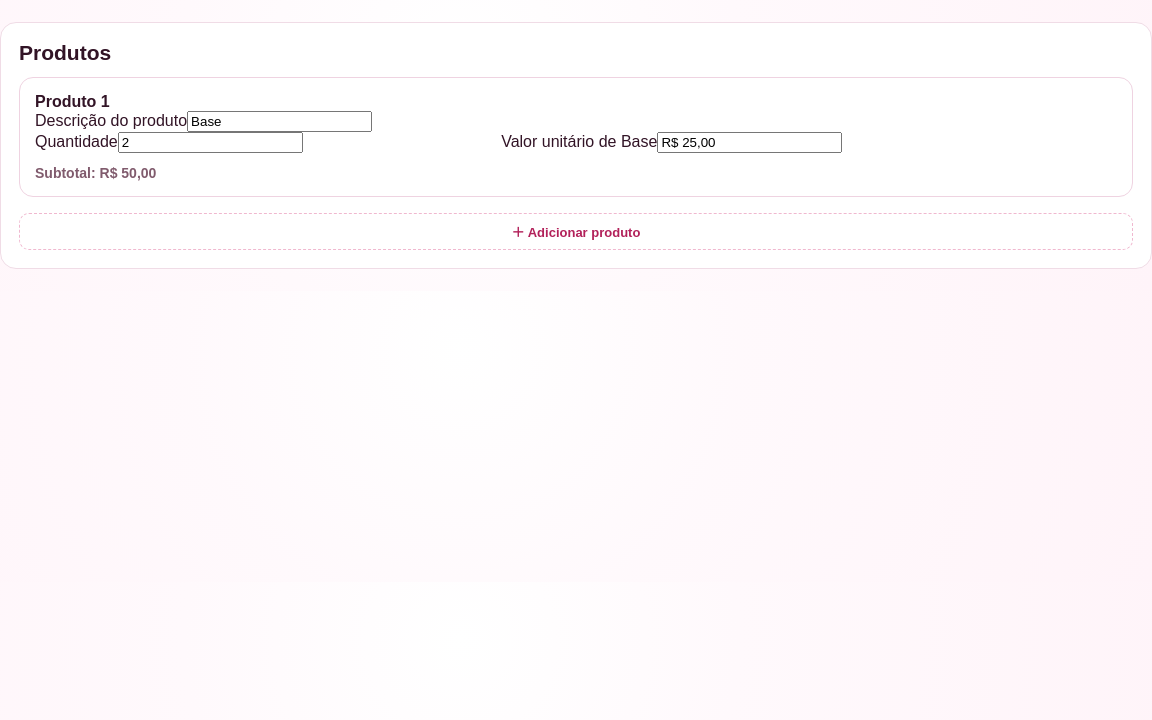
Test: QuoteItemsEditor › adiciona e remove produtos, mostrando o subtotal em reais
The image size is (1152, 720).
Expected: the text "Subtotal: R$ 50,00" is shown, [35,165,156,181]
Step 1. Replace the text in the field labelled "Valor unitário de Base" with "30" → (750, 142), box [657,132,842,153]
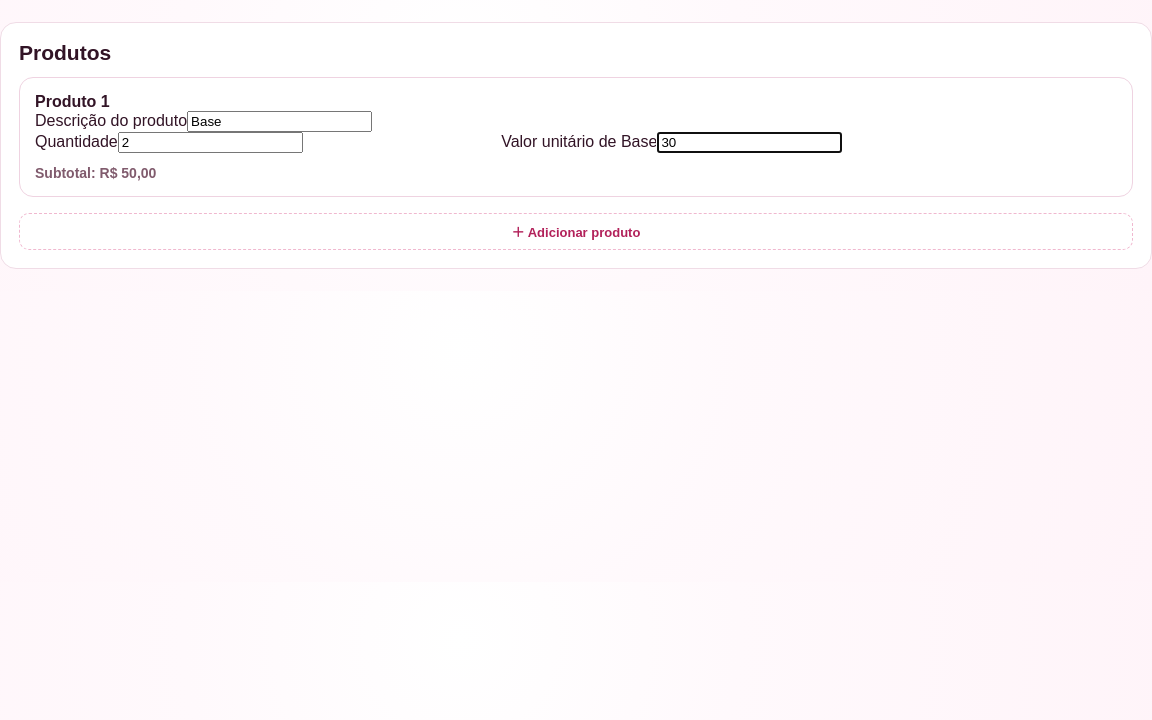
Step 2. Press Tab
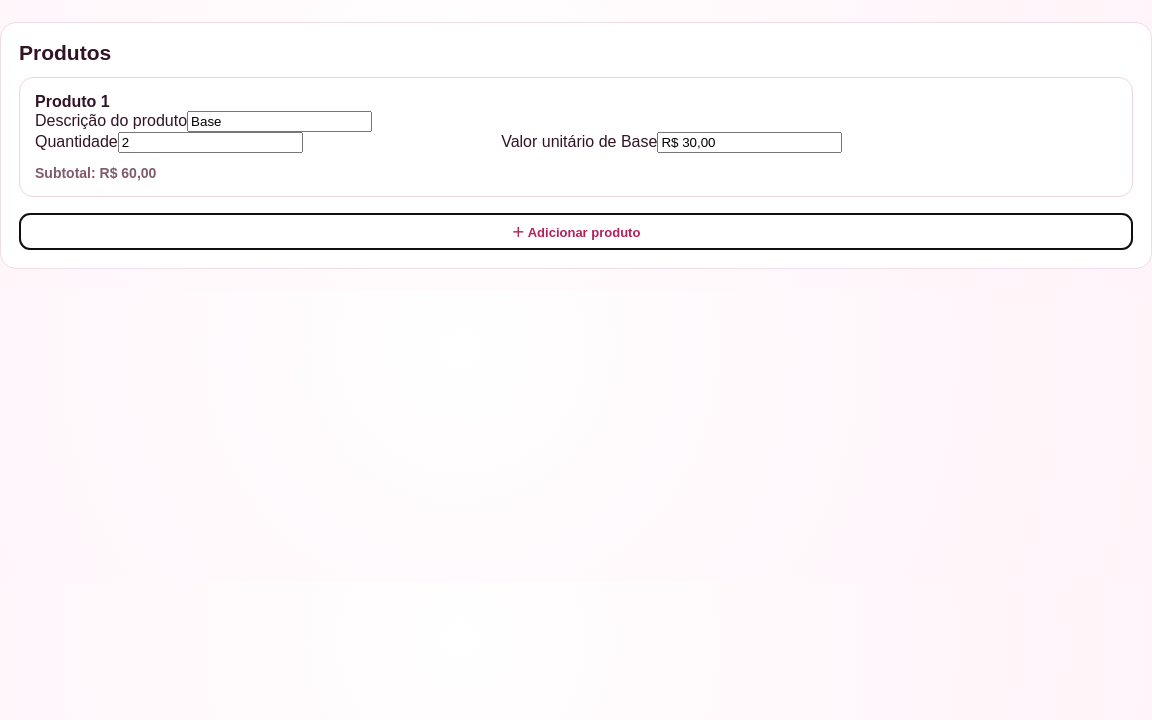
Expected: the text "Subtotal: R$ 60,00" is shown, [35,165,156,181]
Step 3. Click the button "＋ Adicionar produto" → click(576, 232), box [19,213,1133,250]
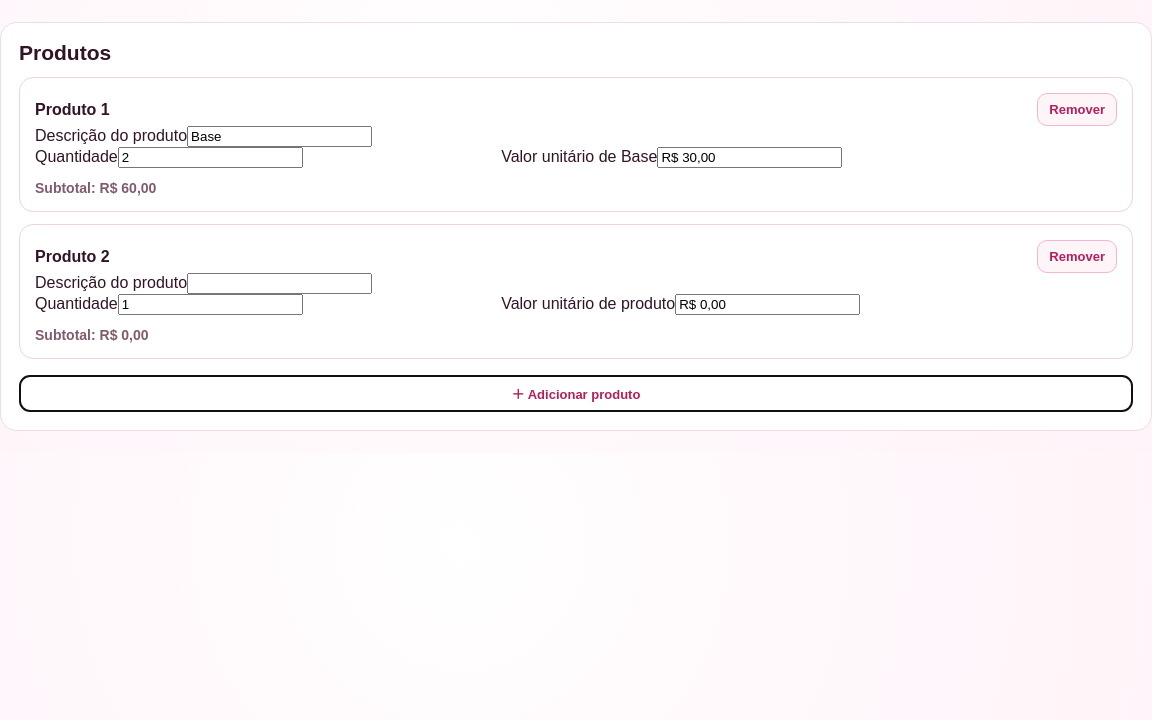
Expected: the number of fields labelled "Descrição do produto" is 2, [187,126,372,147]; [187,273,372,294]
Step 4. Click the button with aria-label "Remover produto Base" → click(1077, 110), box [1037,93,1117,126]
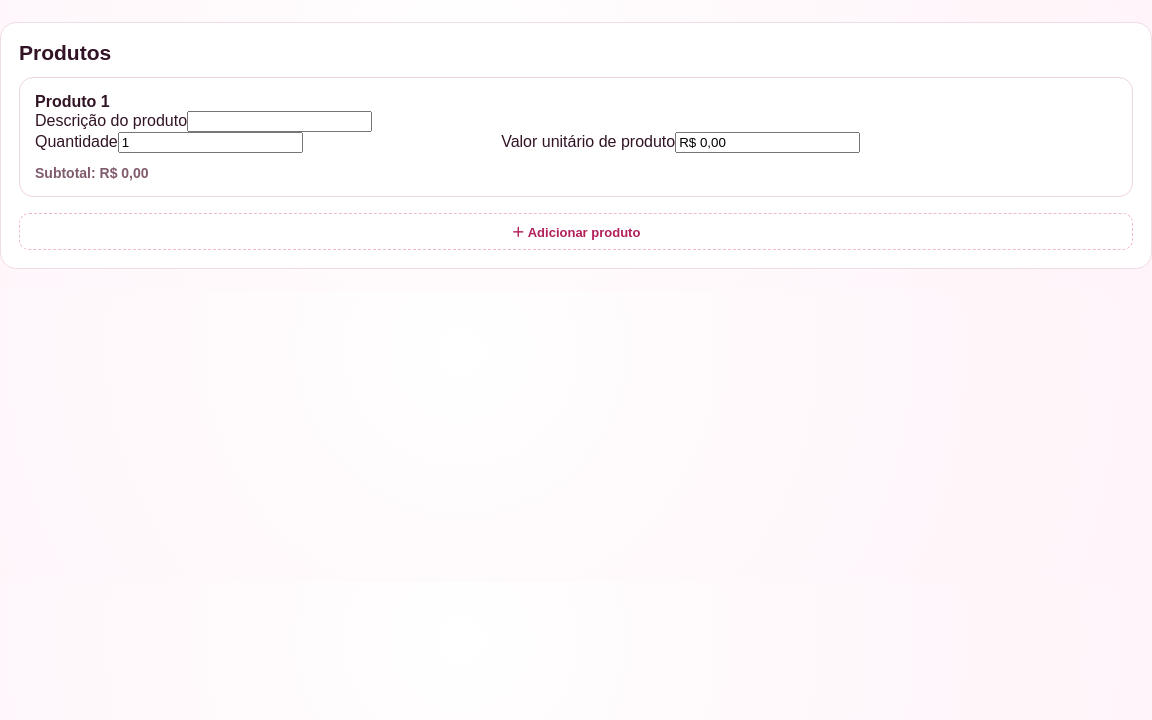
Expected: the number of fields labelled "Descrição do produto" is 1, [187,111,372,132]
